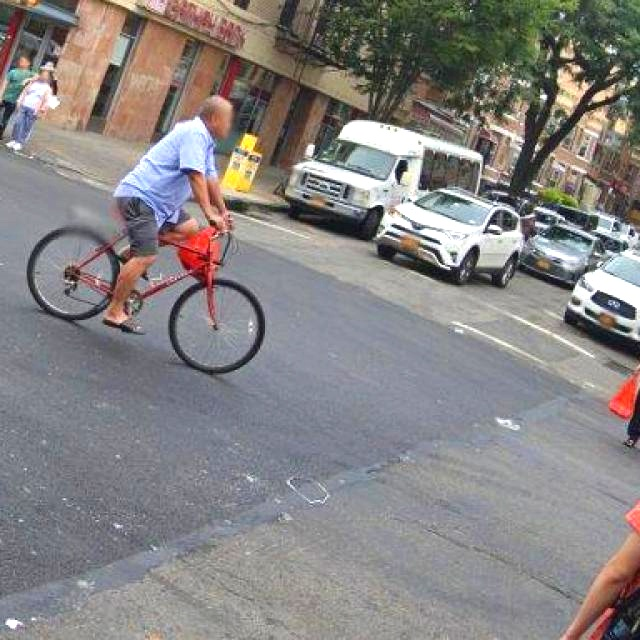bicycle: (19, 154, 281, 418)
car: (370, 173, 532, 283), (552, 231, 636, 362)
